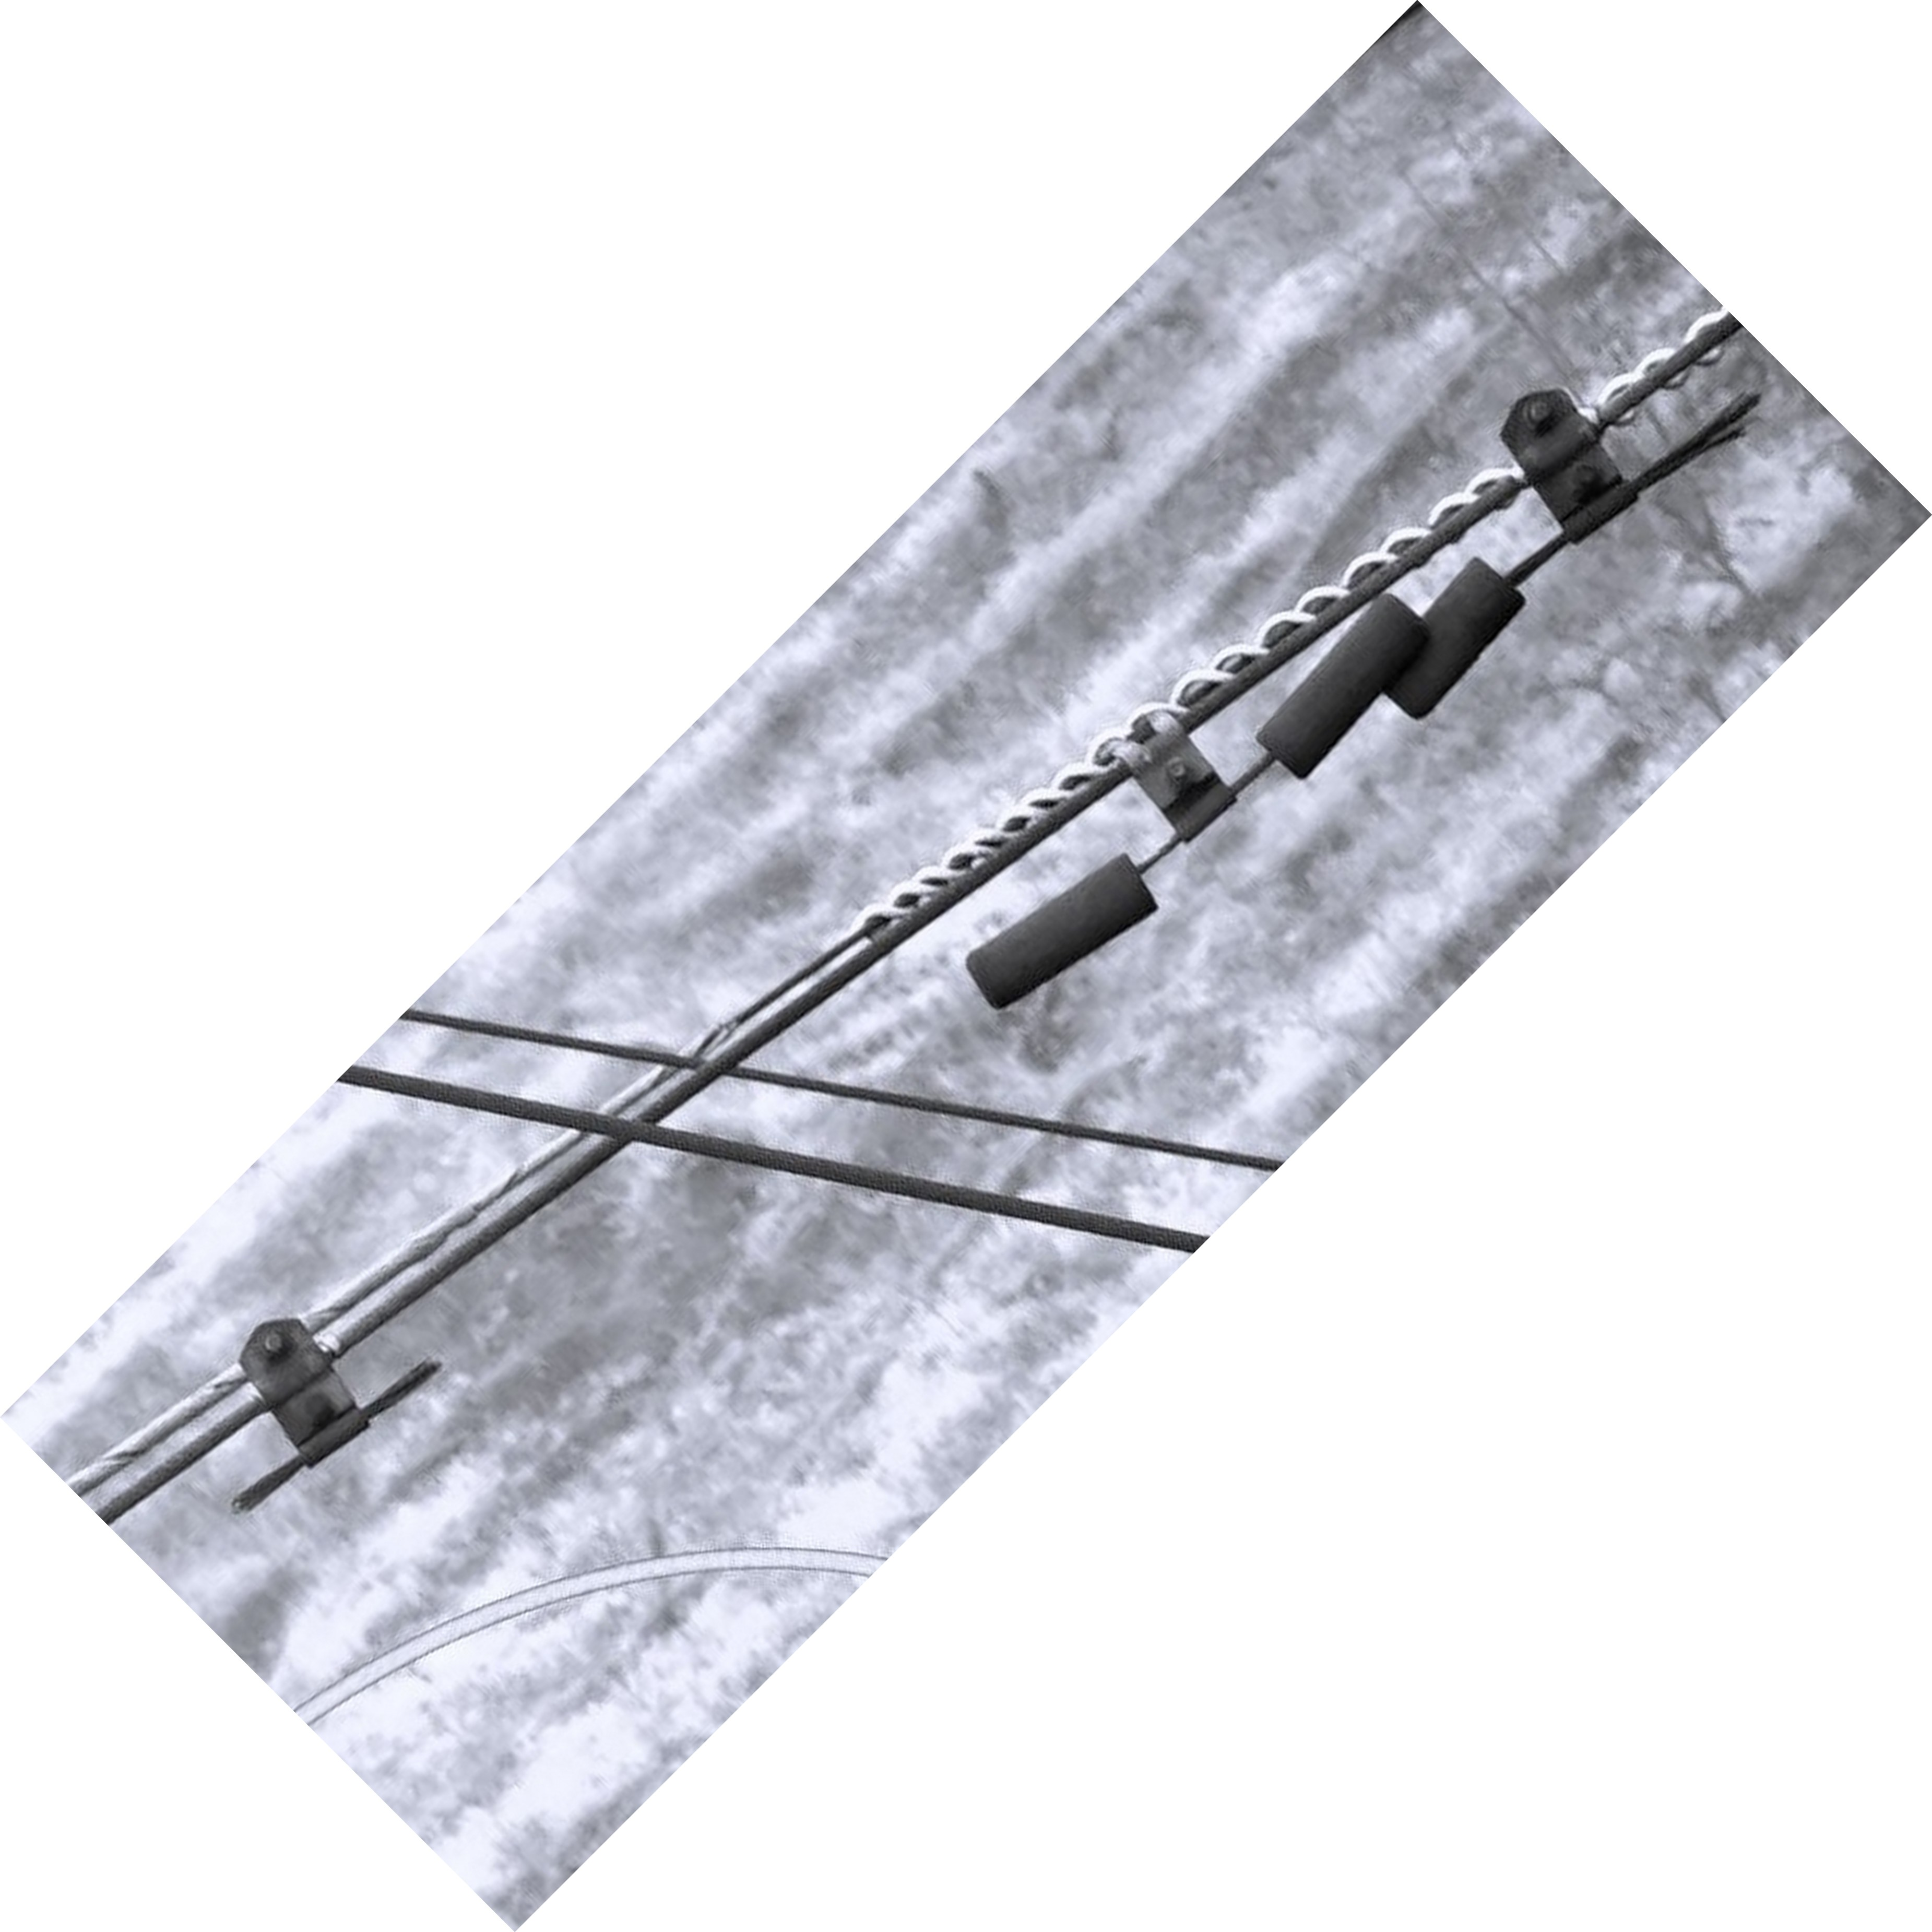Damage of shockproof hammer: (1380, 334, 1783, 722), (193, 1269, 502, 1527)
